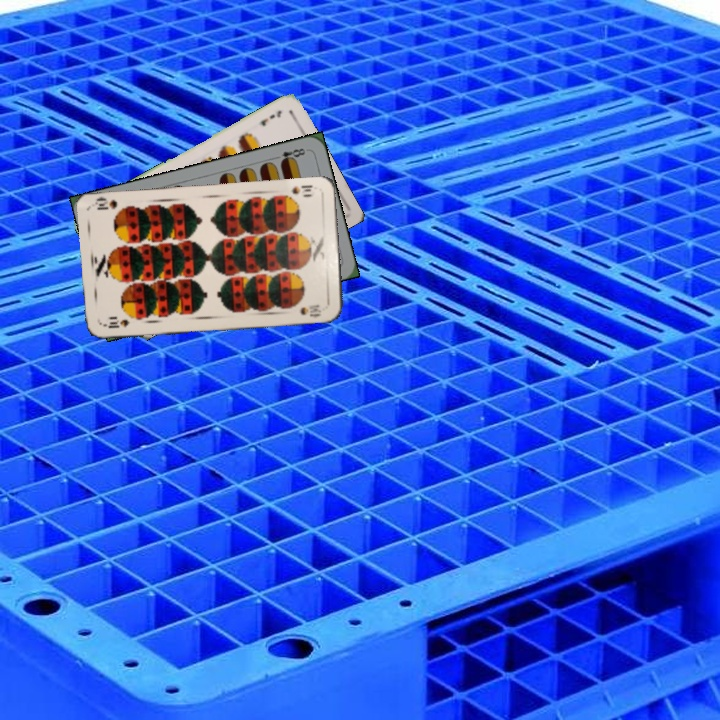E7: (256, 106, 284, 129)
E8: (270, 144, 308, 166)
S10: (287, 181, 316, 199), (100, 315, 132, 331)
